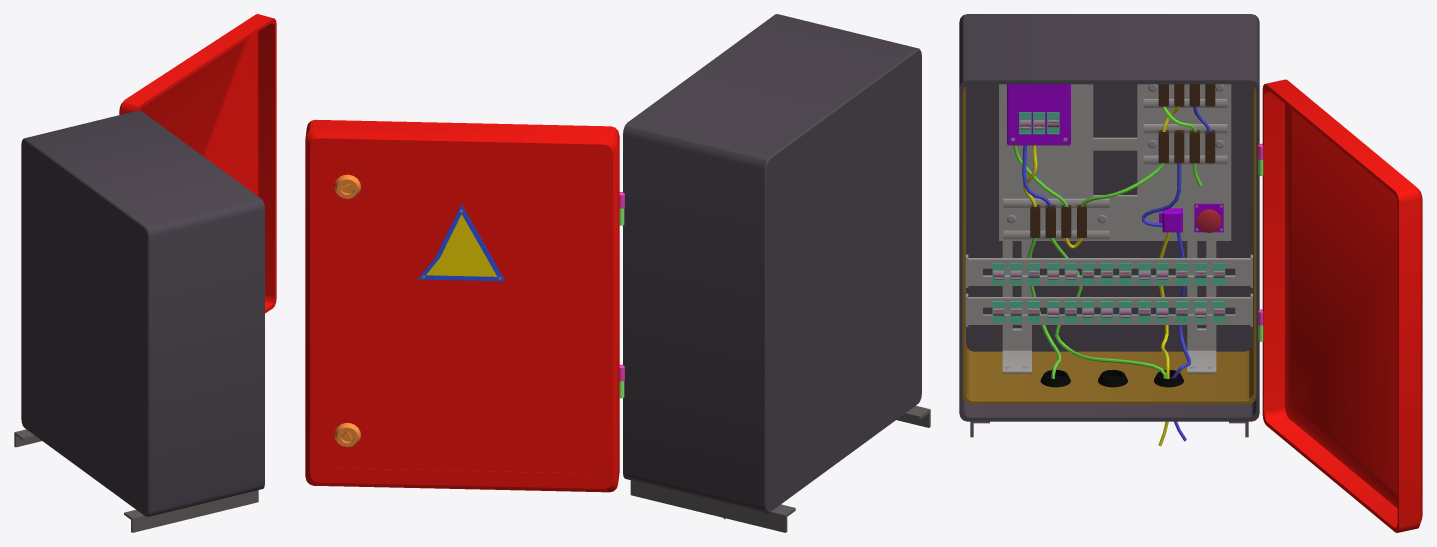
The model's file is FuseBoxSmall.fbx.
3 renders of one model, left to right at view 1: azimuth 30°, elevation 25°; view 2: azimuth 150°, elevation 25°; view 3: azimuth 270°, elevation 25°, orthographic. The views are drawn at different scales.
Parts seen in each view (by area): view 1: Fuse box_main, fuse box_door; view 2: Fuse box_main, fuse box_door; view 3: Fuse box_main, fuse box_door.
Boxes of the visible parts, <box> form: Fuse box_main: <box>14,110,264,532</box>; fuse box_door: <box>119,14,276,313</box>; Fuse box_main: <box>623,14,930,532</box>; fuse box_door: <box>305,119,624,492</box>; Fuse box_main: <box>959,14,1259,446</box>; fuse box_door: <box>1258,79,1422,532</box>.
Size of the model in its own units: 57.68 by 56.9 by 60.26.
